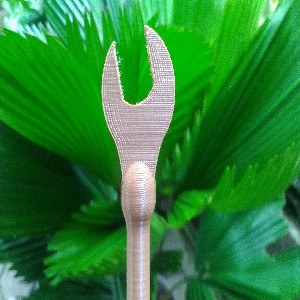spanner: (101, 23, 175, 300)
